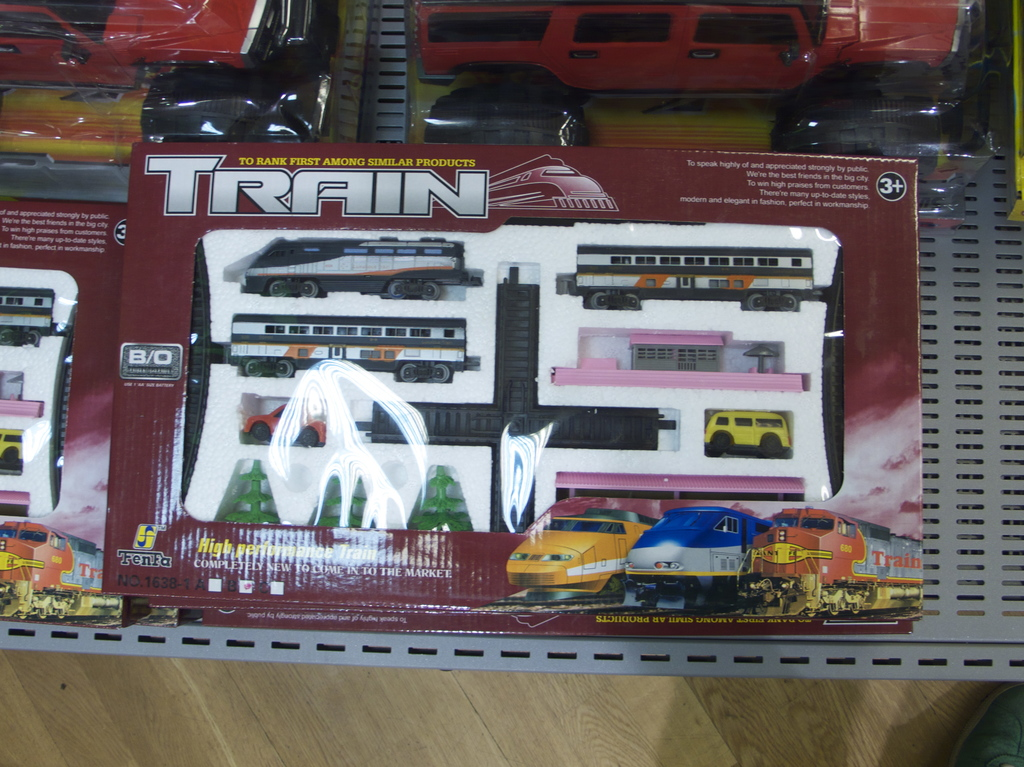cars: (409, 0, 973, 98), (0, 0, 315, 92), (768, 58, 986, 175), (139, 60, 330, 144), (422, 77, 580, 144), (242, 397, 324, 448)
